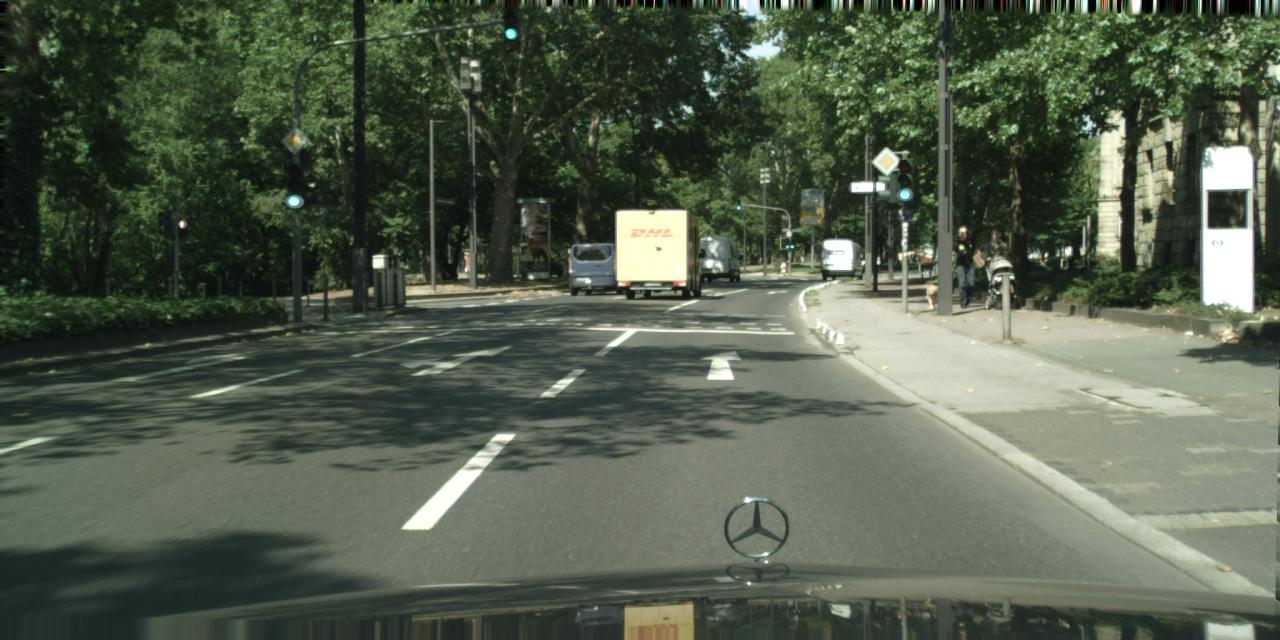ped: (947, 225, 980, 308), (980, 229, 1011, 305)
